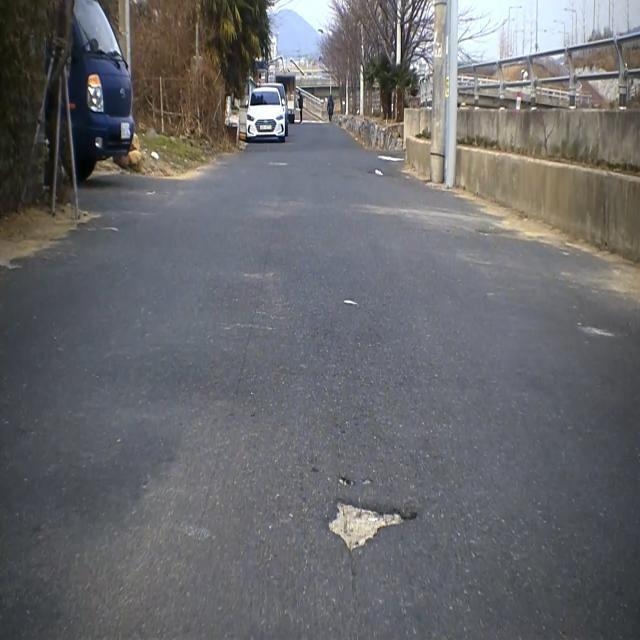pothole: (322, 493, 415, 563)
